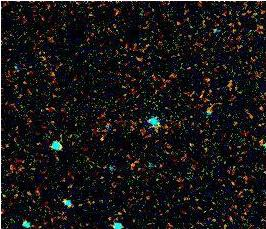star: (86, 125, 116, 155)
